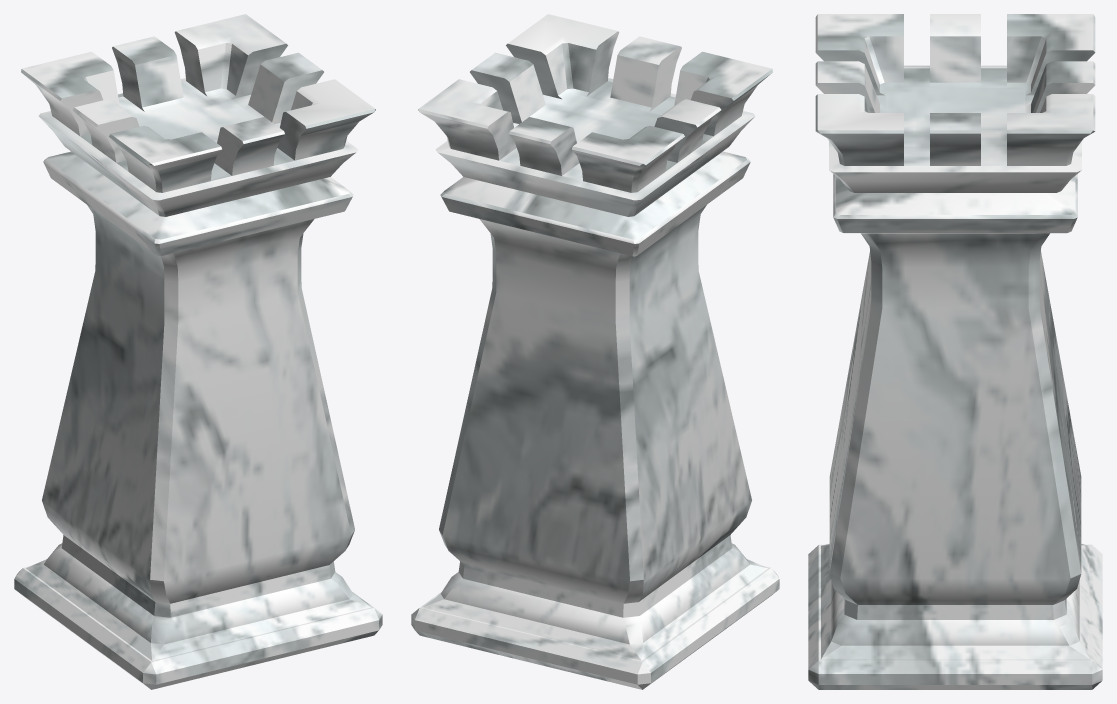
The model's file is chess_castle_01-white.glb.
3 views of the same model, side by side, from view 1: azimuth 30°, elevation 25°; view 2: azimuth 150°, elevation 25°; view 3: azimuth 270°, elevation 25° (orthographic). The views are drawn at different scales.
Visible parts, largest first — view 1: castle_02, castle_01.001; view 2: castle_02, castle_01.001; view 3: castle_02, castle_01.001.
Part boxes in pixels (x1,y1,x2,y2): castle_02: (14,205,382,689); castle_01.001: (21,14,375,256); castle_02: (411,205,779,689); castle_01.001: (418,14,772,256); castle_02: (808,233,1102,689); castle_01.001: (815,14,1095,233).
Bounding box in the file's own units: 0.5712 × 1.2 × 0.5712.
2 materials, 2 textured.
